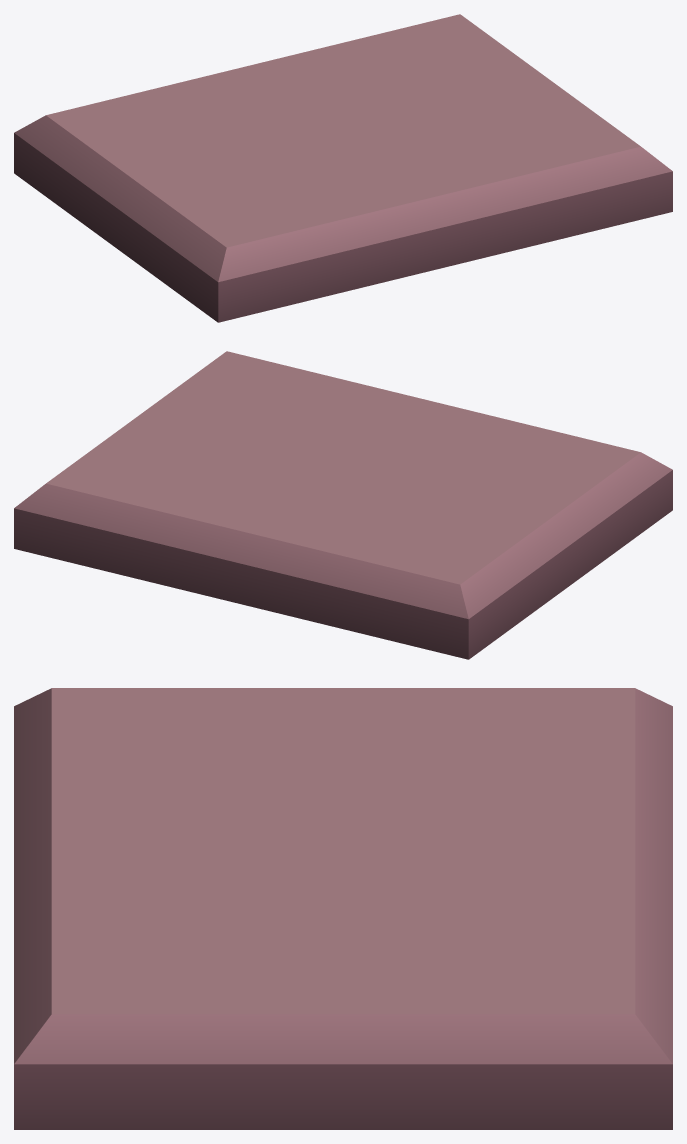
Rendered from holmium-plate.glb.
3 renders of one model, top to bottom at view 1: azimuth 30°, elevation 25°; view 2: azimuth 150°, elevation 25°; view 3: azimuth 270°, elevation 25°, orthographic. The views are drawn at different scales.
Parts seen in each view (by area): view 1: holmium-plate; view 2: holmium-plate; view 3: holmium-plate.
Part boxes in pixels (x1,y1,x2,y2): holmium-plate: (14,14,672,322); holmium-plate: (14,351,672,659); holmium-plate: (14,688,672,1129).
Size of the model in its own units: 0.27 by 0.035 by 0.21.
